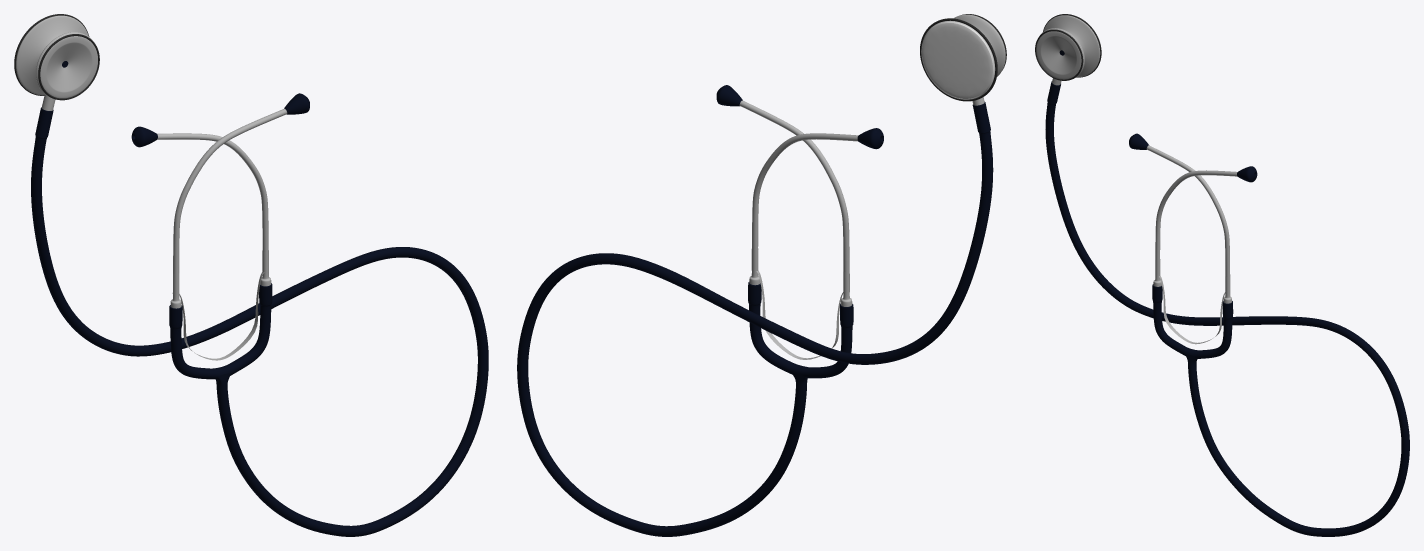
The model's file is Stetoscopio.fbx.
The picture shows the model from 3 angles, left to right: view 1: azimuth 30°, elevation 25°; view 2: azimuth 150°, elevation 25°; view 3: azimuth 330°, elevation 25°; orthographic projection. The views are drawn at different scales.
Parts seen in each view (by area): view 1: Plane.016; view 2: Plane.016; view 3: Plane.016.
Boxes of the visible parts, x1,y1,x2,y2 form: Plane.016: (14, 14, 488, 536); Plane.016: (517, 14, 1006, 536); Plane.016: (1035, 14, 1409, 536).
Size of the model in its own units: 46.47 by 55.27 by 3.37.
